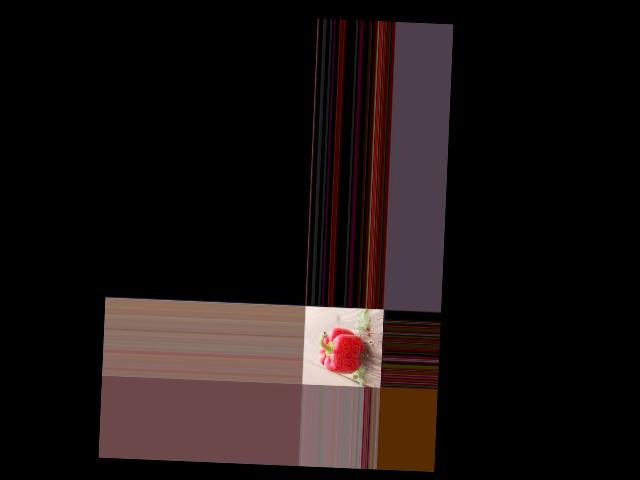bell_pepper: (314, 324, 366, 378)
